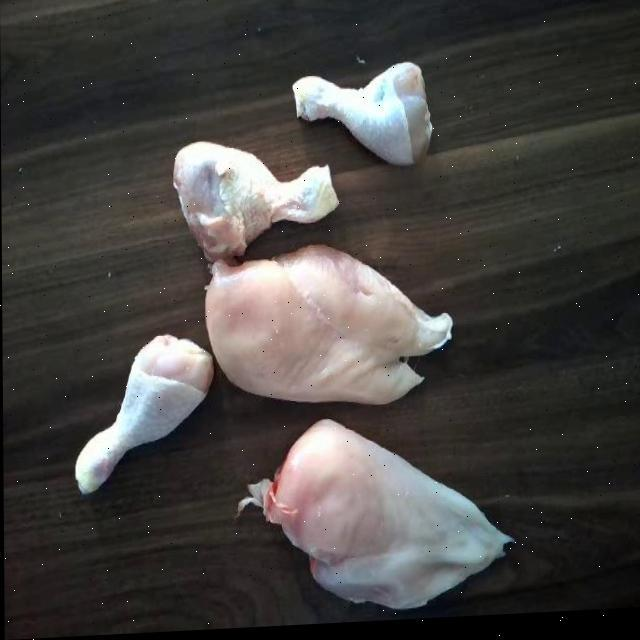breast: (255, 401, 516, 616), (202, 253, 454, 430)
leg: (64, 330, 213, 501), (171, 136, 345, 262), (280, 56, 438, 182)
